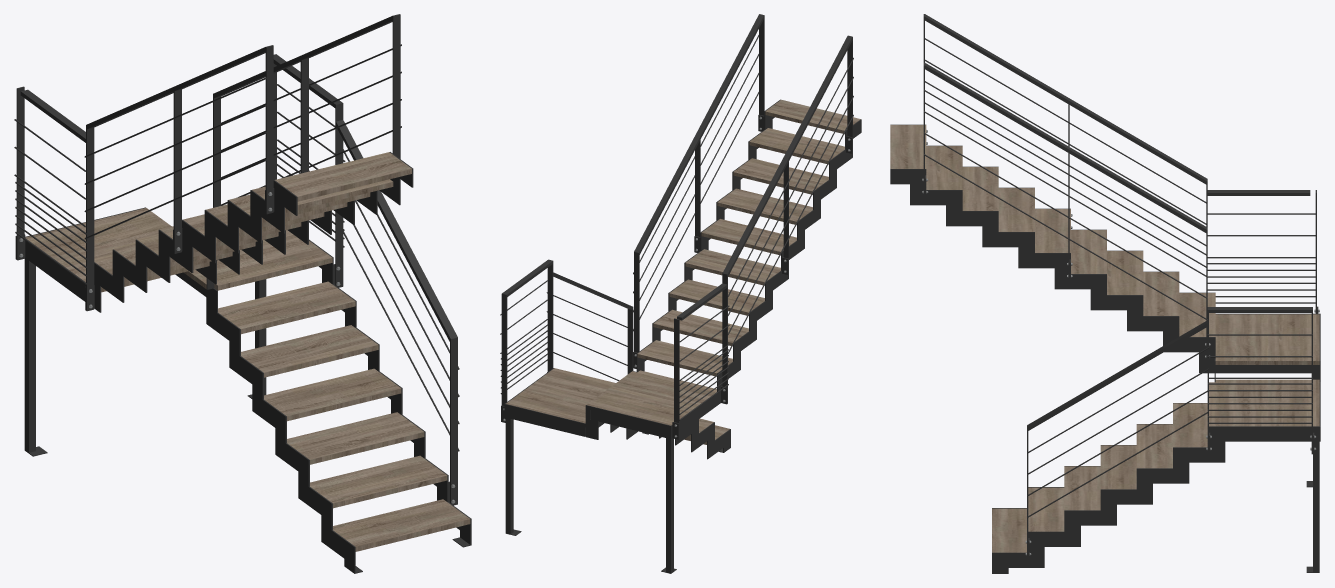
3 renders of one model, left to right at view 1: azimuth 30°, elevation 25°; view 2: azimuth 150°, elevation 25°; view 3: azimuth 270°, elevation 25°, orthographic. The views are drawn at different scales.
Parts seen in each view (by area): view 1: Composant_246_1, Composant_285_1, Composant_253_1, Composant_256_1, Composant_257_4, Composant_255_2, Composant_255_3, Composant_257_3, Composant_255_1, Composant_255_4, Composant_269_1, Composant_269_2 (+5 smaller); view 2: Composant_246_1, Composant_285_1, Composant_253_1, Composant_269_2, Composant_269_1, Composant_257_2, Composant_257_1, Composant_257_3, Composant_257_4, Composant_255_6, Composant_255_4, Composant_255_5 (+6 smaller); view 3: Composant_246_1, Composant_285_1, Composant_269_2, Composant_269_1, Composant_256_1, Composant_253_1, Composant_272_3, Composant_272_7, Composant_258_2, Composant_258_1, Composant_272_5, Composant_272_8 (+4 smaller).
Boxes of the visible parts, x1,y1,x2,y2 form: Composant_246_1: (25, 152, 470, 551); Composant_285_1: (25, 152, 471, 573); Composant_253_1: (24, 258, 266, 456); Composant_256_1: (336, 120, 457, 341); Composant_257_4: (86, 125, 94, 311); Composant_255_2: (265, 45, 273, 214); Composant_255_3: (173, 88, 181, 253); Composant_257_3: (16, 86, 24, 260); Composant_255_1: (450, 337, 457, 505); Composant_255_4: (392, 14, 400, 158); Composant_269_1: (86, 47, 265, 129); Composant_269_2: (213, 16, 392, 98); Composant_246_1: (506, 99, 860, 444); Composant_285_1: (504, 99, 861, 459); Composant_253_1: (505, 417, 676, 573); Composant_269_2: (634, 14, 763, 254); Composant_269_1: (723, 36, 852, 276); Composant_257_2: (501, 293, 507, 405); Composant_257_1: (547, 259, 553, 371); Composant_257_3: (674, 318, 679, 438); Composant_257_4: (722, 273, 727, 403); Composant_255_6: (634, 252, 639, 352); Composant_255_4: (759, 14, 764, 115); Composant_255_5: (695, 139, 700, 236); Composant_246_1: (890, 125, 1319, 552); Composant_285_1: (890, 124, 1320, 573); Composant_269_2: (925, 63, 1207, 232); Composant_269_1: (925, 14, 1207, 184); Composant_256_1: (1027, 320, 1207, 430); Composant_253_1: (1306, 373, 1319, 572); Composant_272_3: (925, 81, 1206, 245); Composant_272_7: (923, 111, 1207, 277); Composant_258_2: (1207, 190, 1310, 195); Composant_258_1: (1209, 307, 1311, 312); Composant_272_5: (923, 132, 1207, 298); Composant_272_8: (923, 89, 1207, 255).
Bounding box in the file's own units: 1808 × 3900 × 3275.
3 materials, 2 textured.
